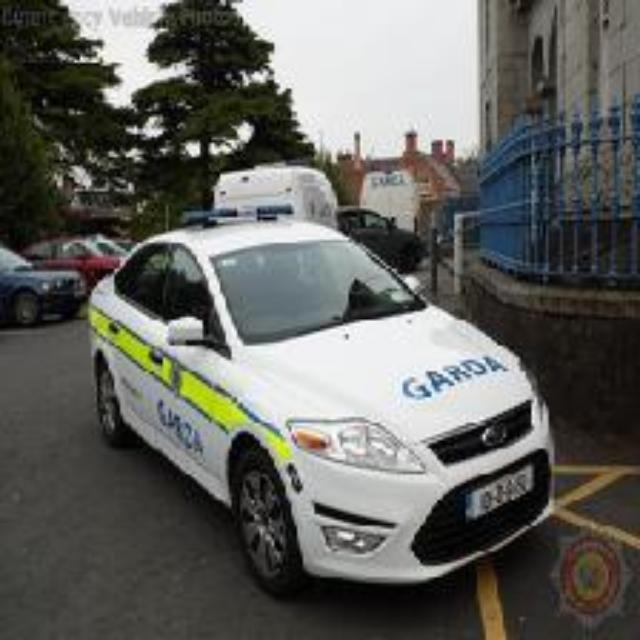emergency: (77, 203, 565, 614)
